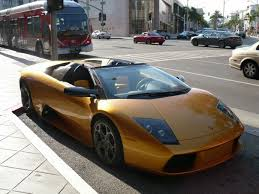Lamborghini: (60, 61, 214, 168)
